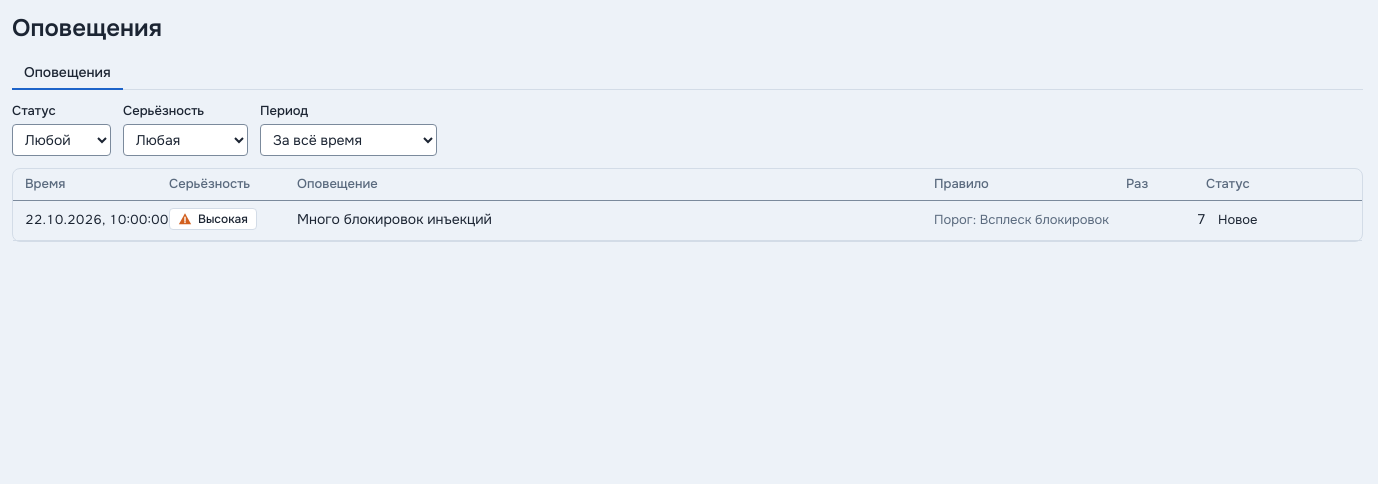
Test case: экран «Оповещения»: список и карточка › без alerts.manage кнопок смены статуса нет
Click the button with aria-label "Открыть оповещение" at (394, 219), box 297,210 -> 934,230
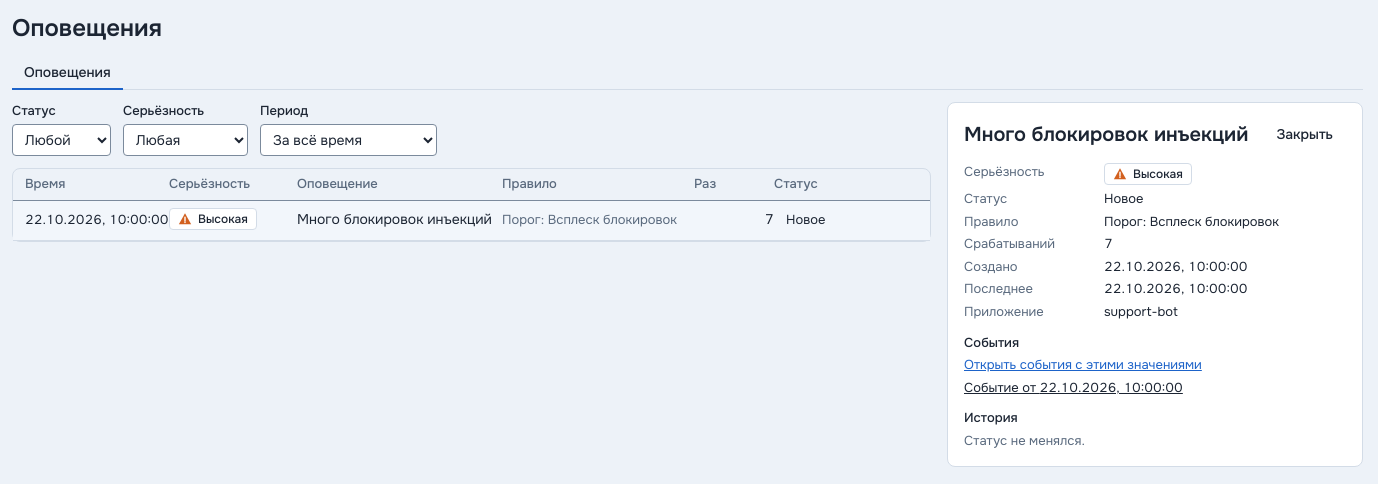
Expected: the element named "Карточка оповещения" is shown, 947,102 -> 1363,467
